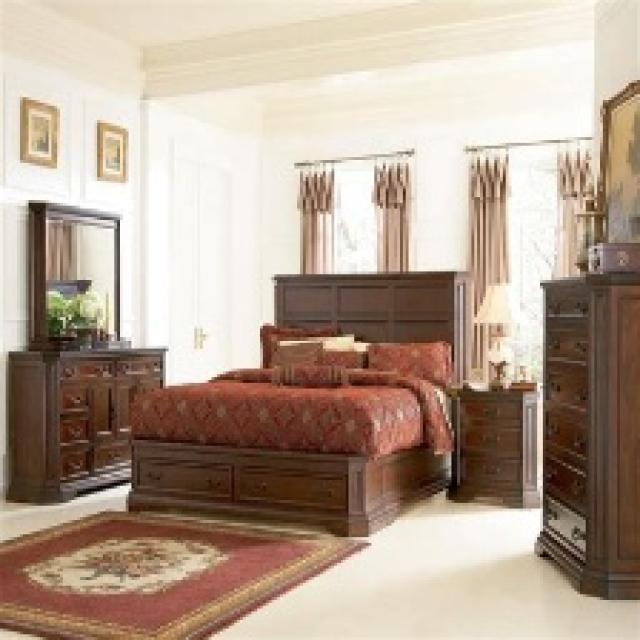Bed: (126, 269, 471, 537)
